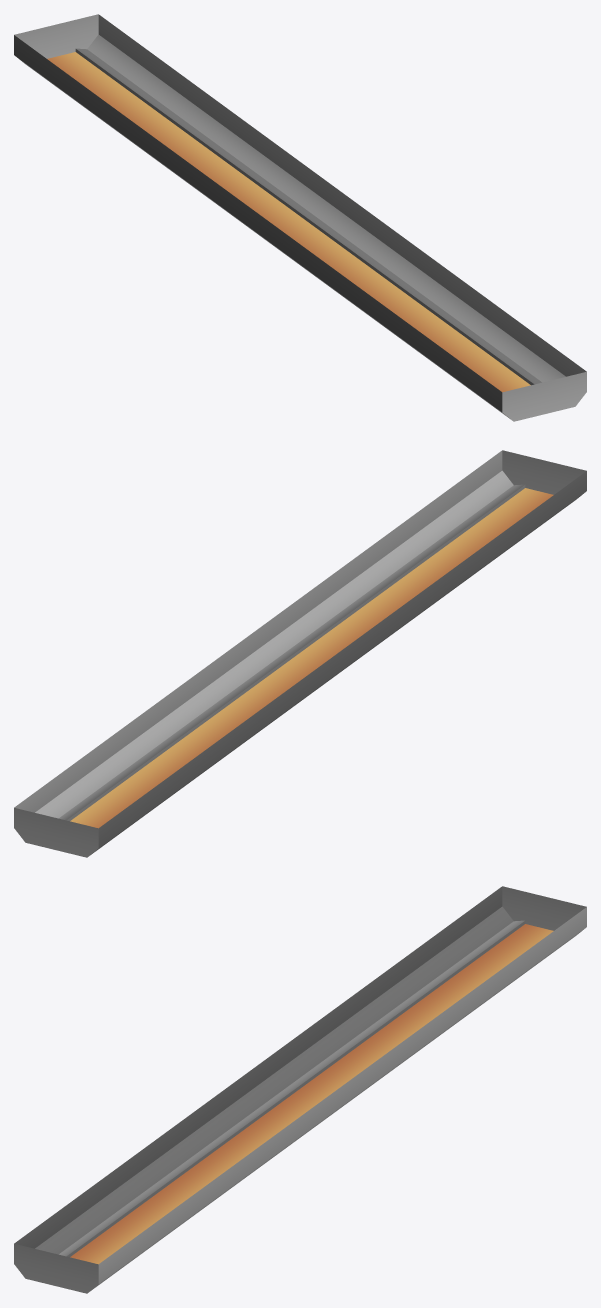
File: strip light.fbx
3 renders of one model, top to bottom at view 1: azimuth 30°, elevation 25°; view 2: azimuth 150°, elevation 25°; view 3: azimuth 330°, elevation 25°, orthographic.
Parts seen in each view (by area): view 1: Box001; view 2: Box001; view 3: Box001.
Boxes of the visible parts, bbox=[...] form: Box001: bbox=[14, 14, 586, 421]; Box001: bbox=[14, 450, 586, 857]; Box001: bbox=[14, 886, 586, 1293].
Bounding box in the file's own units: 0.0993 × 0.0362 × 0.9925.
